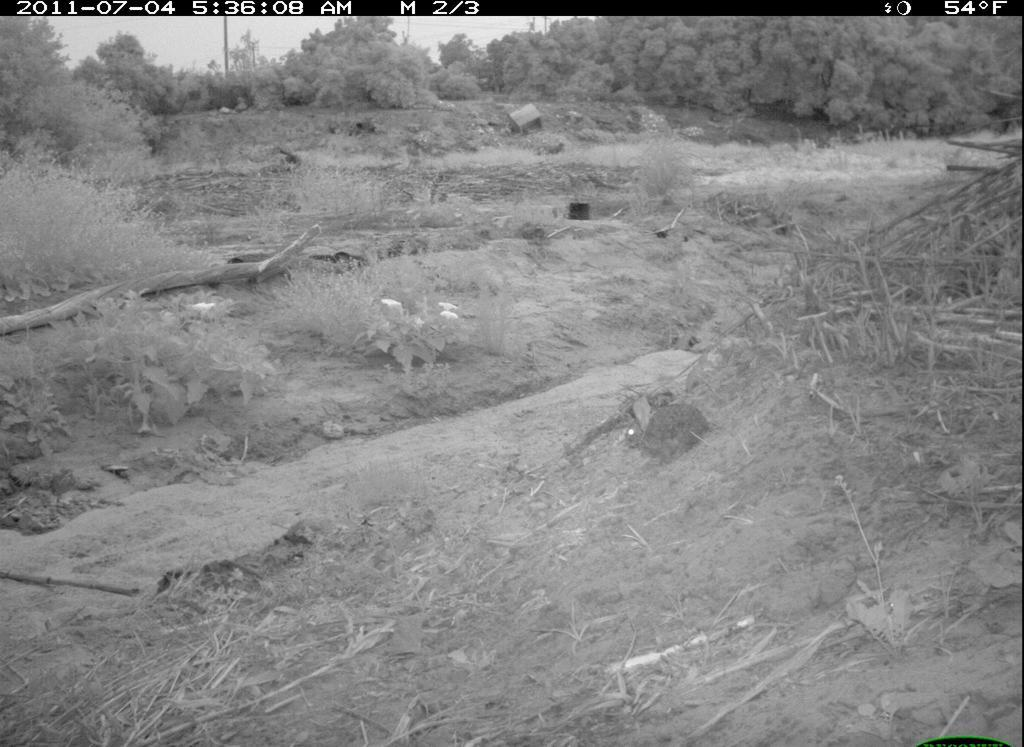rabbit: (610, 388, 714, 470)
